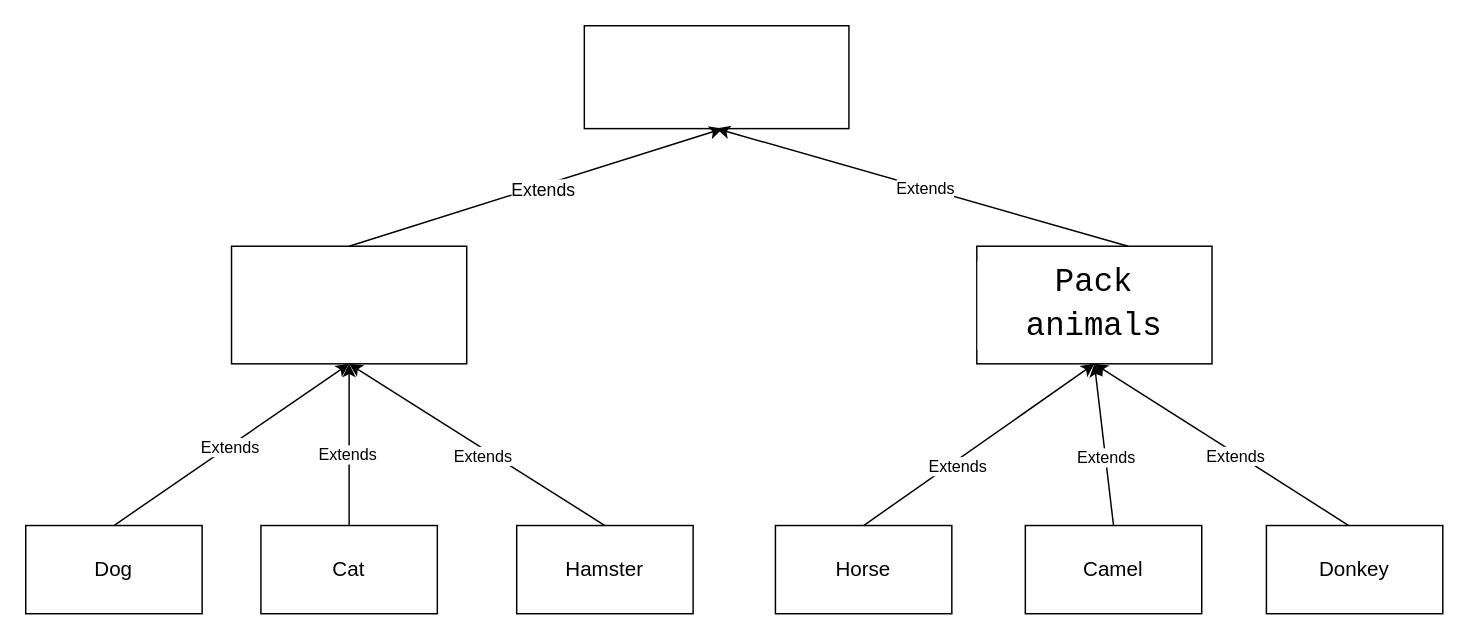
Image size: 1469x639. Some labels were removed from this diagram. The centre of each missing label's shape, as x and y in pixels:
Animals: (716,76)
Pets: (348,304)
